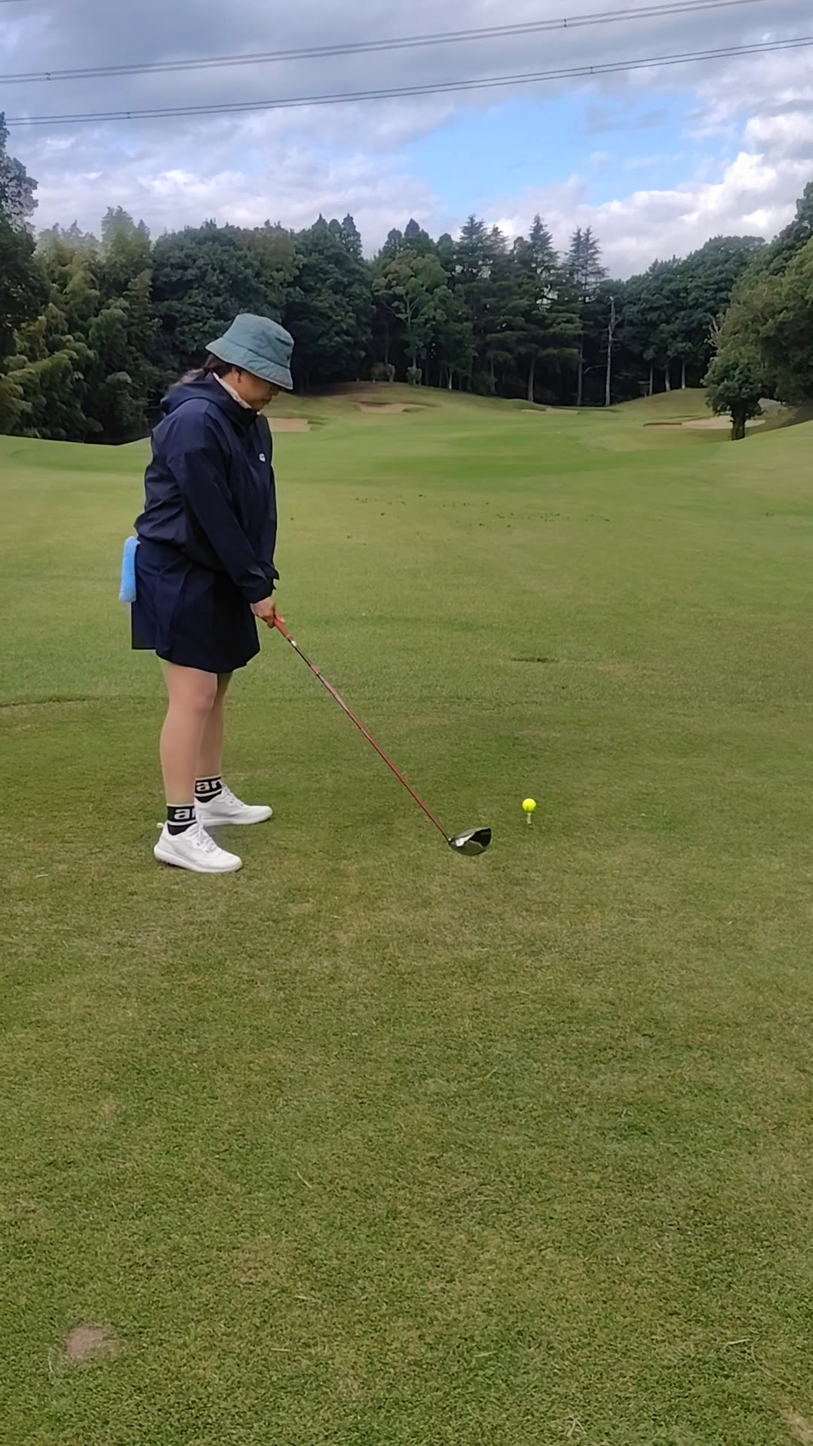clubhead: (357, 764, 596, 924)
